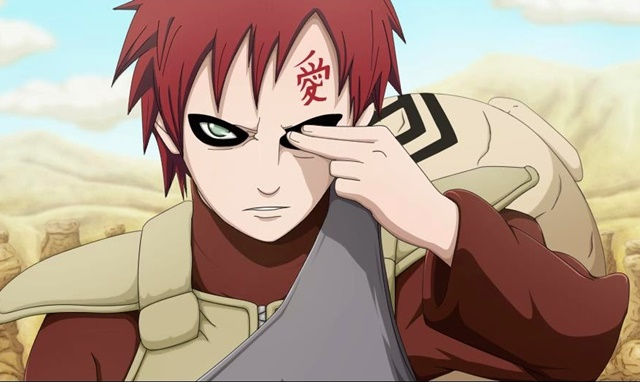gaara: (139, 10, 386, 249)
